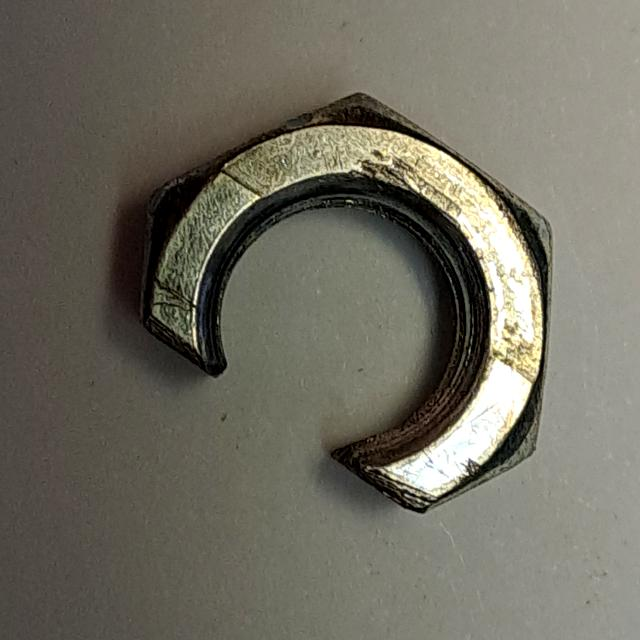Fracture: (121, 72, 572, 547)
